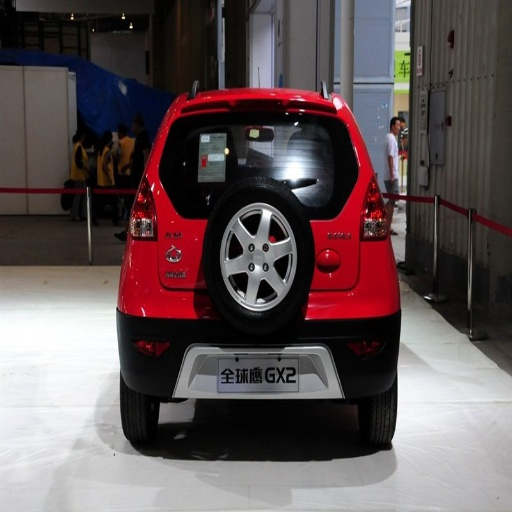trunk: (126, 172, 208, 314), (325, 221, 360, 288)
